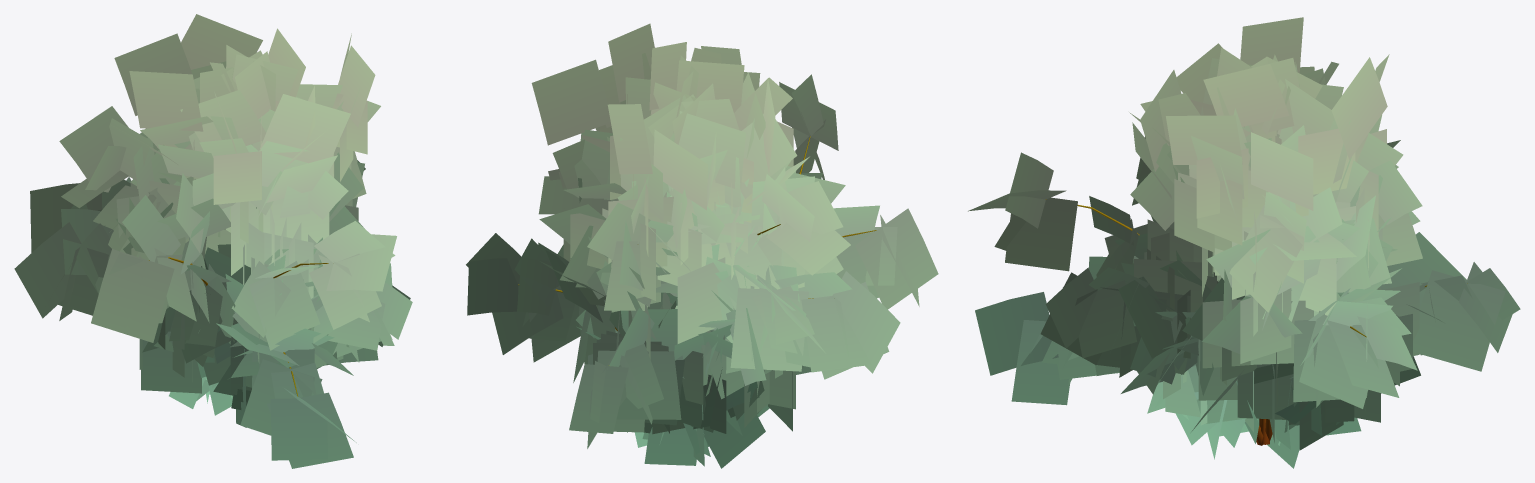
The model's file is hazel.glb.
3 renders of one model, left to right at view 1: azimuth 30°, elevation 25°; view 2: azimuth 150°, elevation 25°; view 3: azimuth 270°, elevation 25°, orthographic. The views are drawn at different scales.
Visible parts, largest first — view 1: LOD0; view 2: LOD0; view 3: LOD0.
Part boxes in pixels (x1,y1,x2,y2): LOD0: [14, 14, 412, 468]; LOD0: [466, 23, 938, 468]; LOD0: [968, 17, 1520, 468].
Size of what is drawn, in the model's own units: 5.7 by 5.18 by 6.32.
